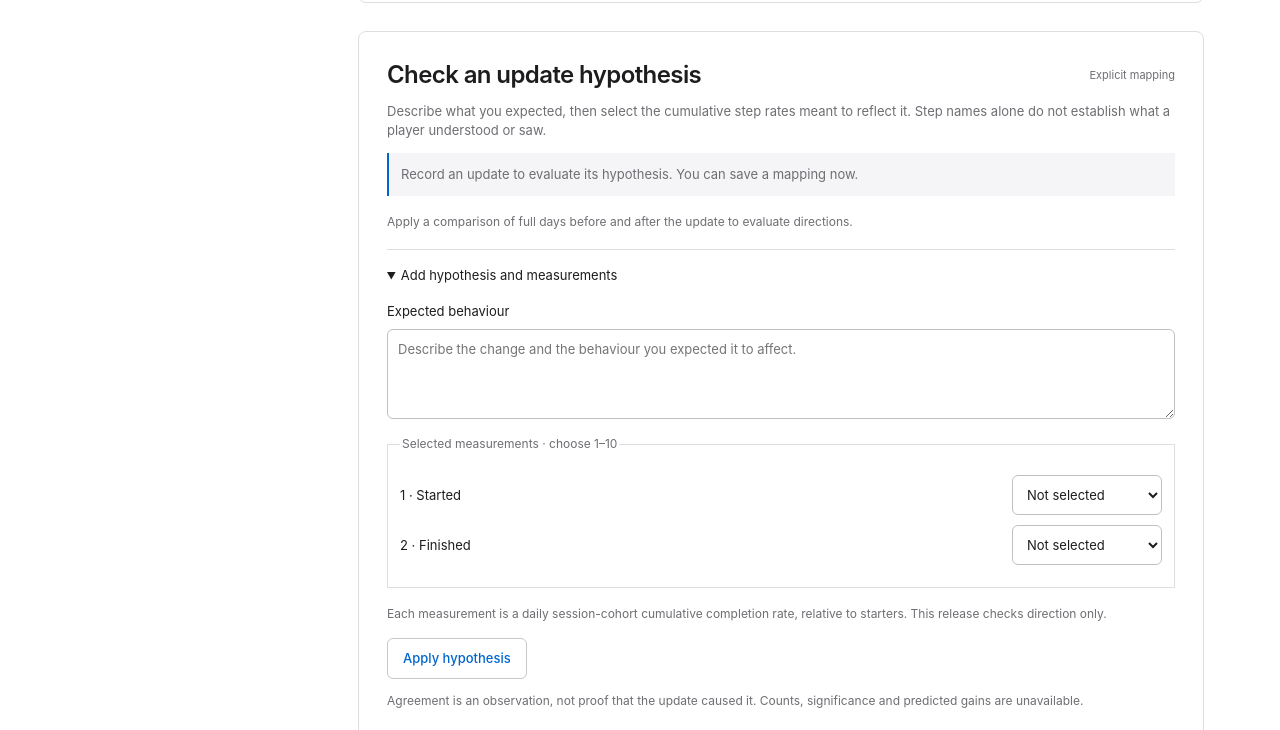
Scenario: retries a failed hypothesis request with the exact attempted settings
(page scrolled)
Step 1. Replace the text in the text box labelled "Expected behaviour" with "Check this expectation" → point(781, 374), box [387, 329, 1175, 419]
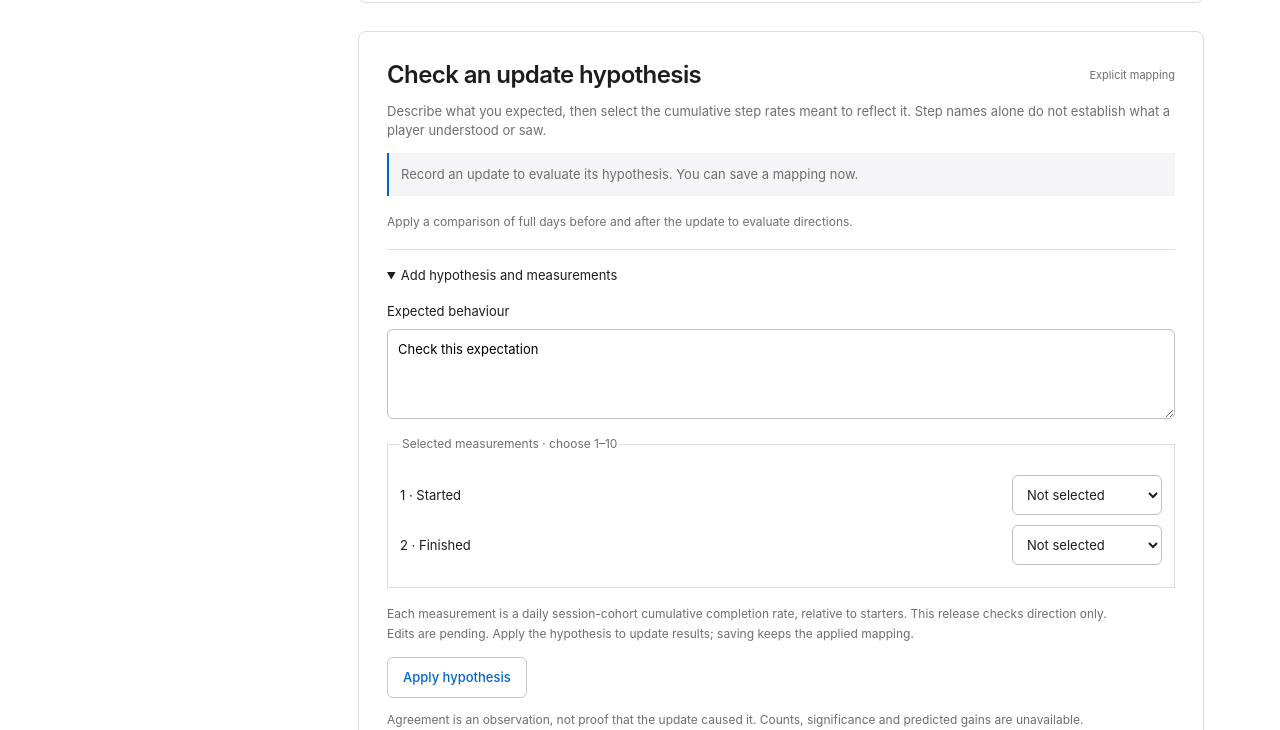
Step 2. Select "Increase" in the dropdown named "Expected direction for step 2" → point(1087, 545), box [1012, 525, 1162, 565]
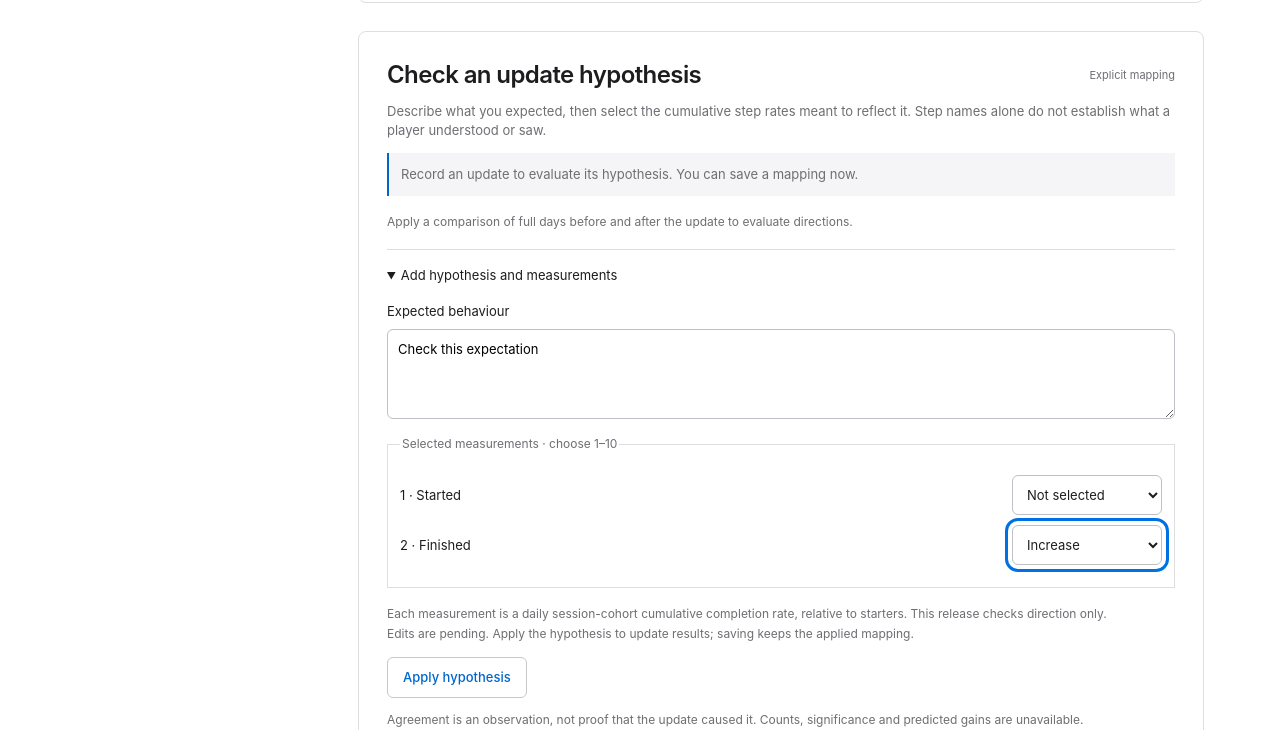
Step 3. Click the button "Apply hypothesis" → point(457, 678), box [387, 657, 527, 698]
(page scrolled)
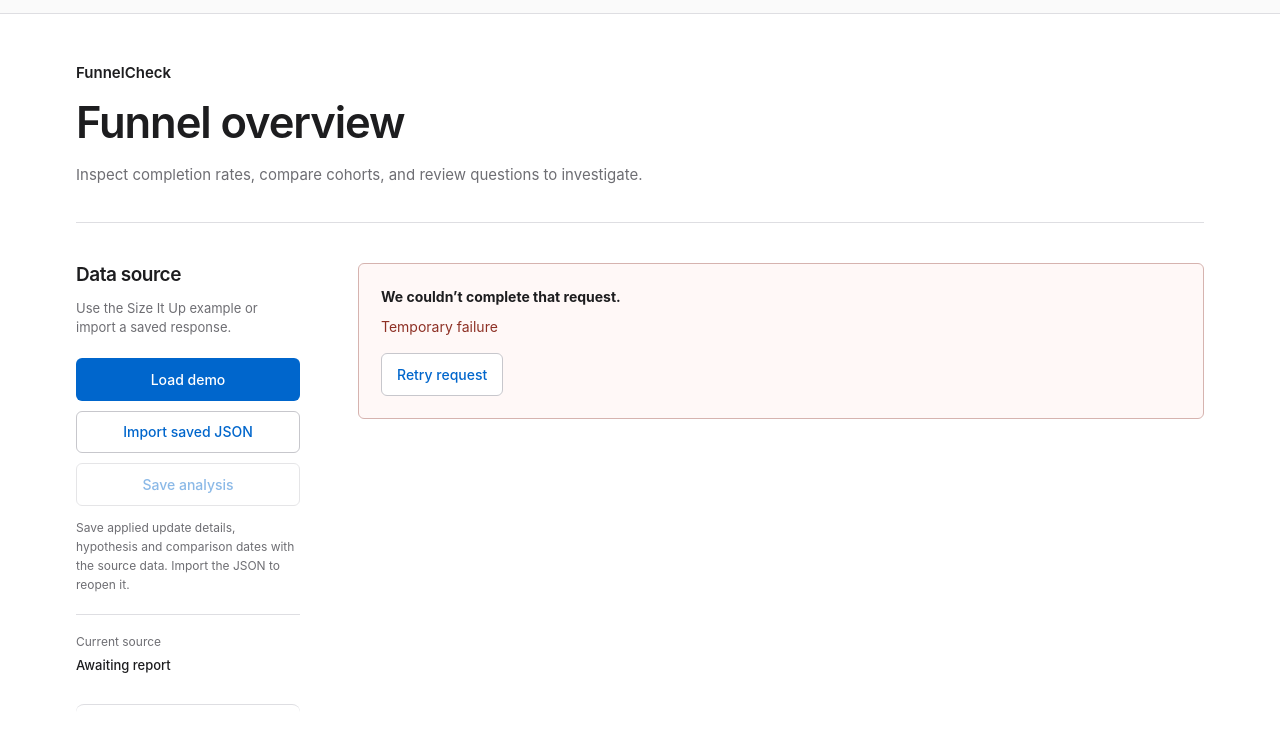
Check: the message shows "Temporary failure", box [381, 318, 498, 335]
Step 4. Click the button "Retry request" → point(442, 374), box [381, 353, 503, 396]
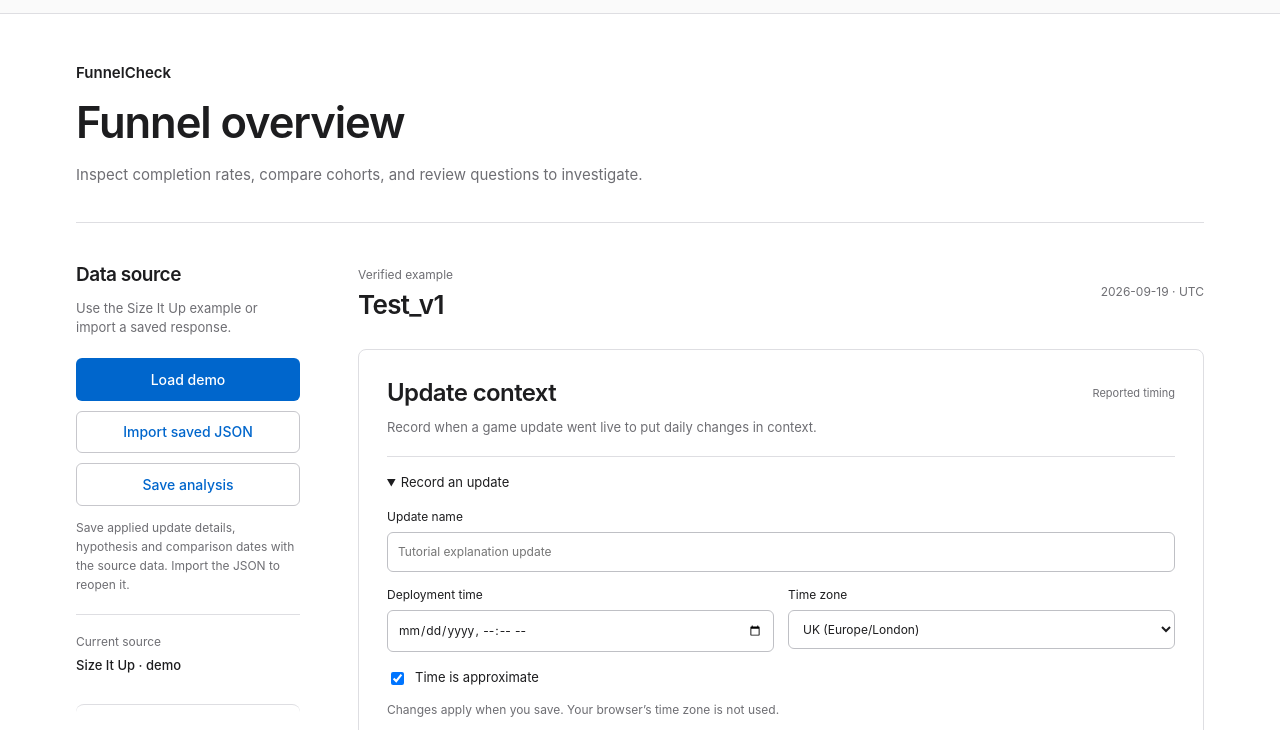
Check: the heading "Test_v1" is shown, box [358, 289, 453, 321]
